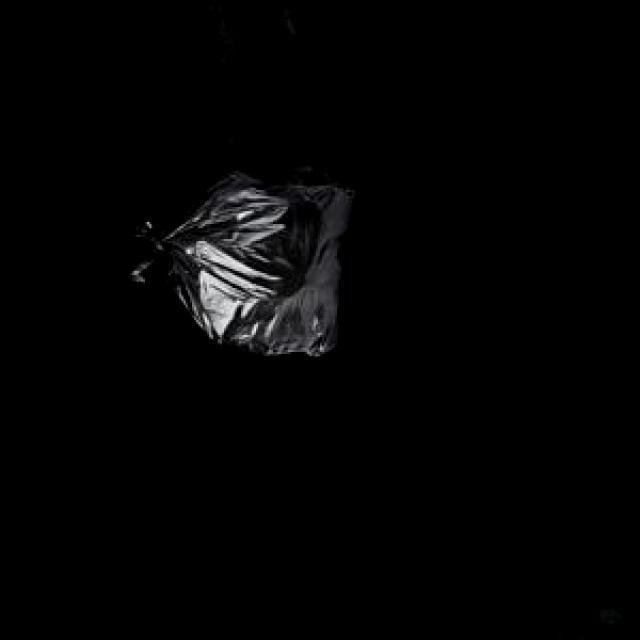Trashbag: (120, 150, 368, 362)
